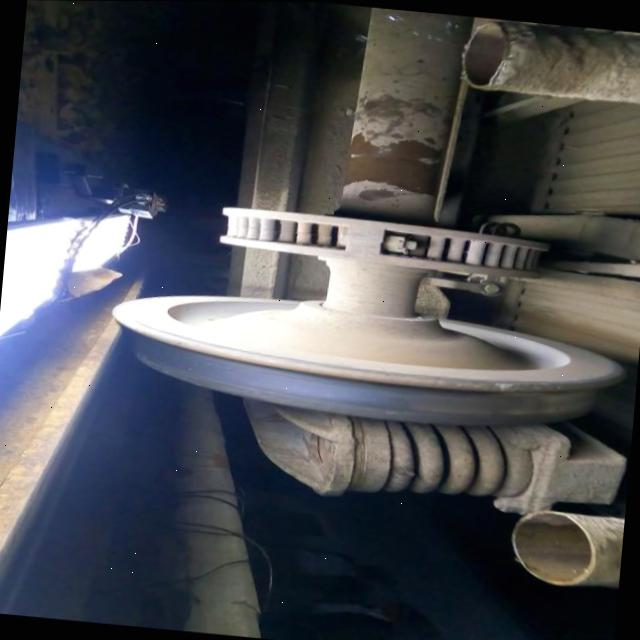Cracks-Scratches: (493, 380, 515, 390)
Shelling: (417, 387, 595, 414)
Wheel: (113, 294, 623, 424)
